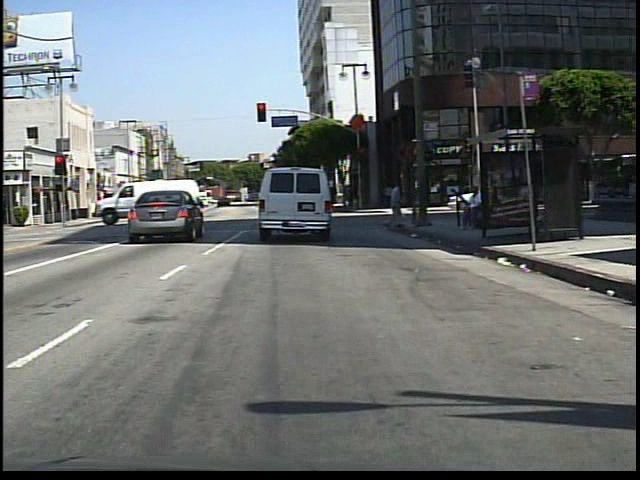person: (381, 178, 407, 235), (461, 185, 486, 235), (130, 193, 145, 218)
